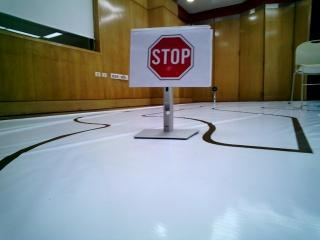stop: (133, 27, 209, 84)
